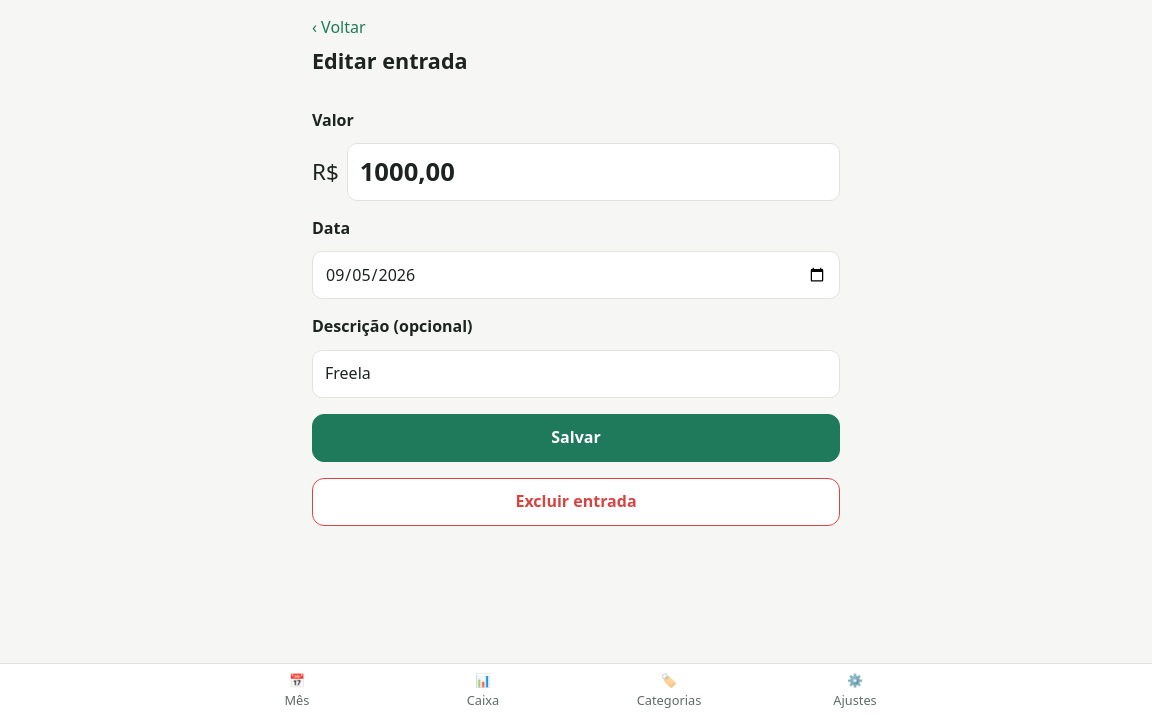
Scenario: entrada › exclui entrada existente
Click the button "Excluir entrada".
click(576, 502)  # box [312,478,840,526]
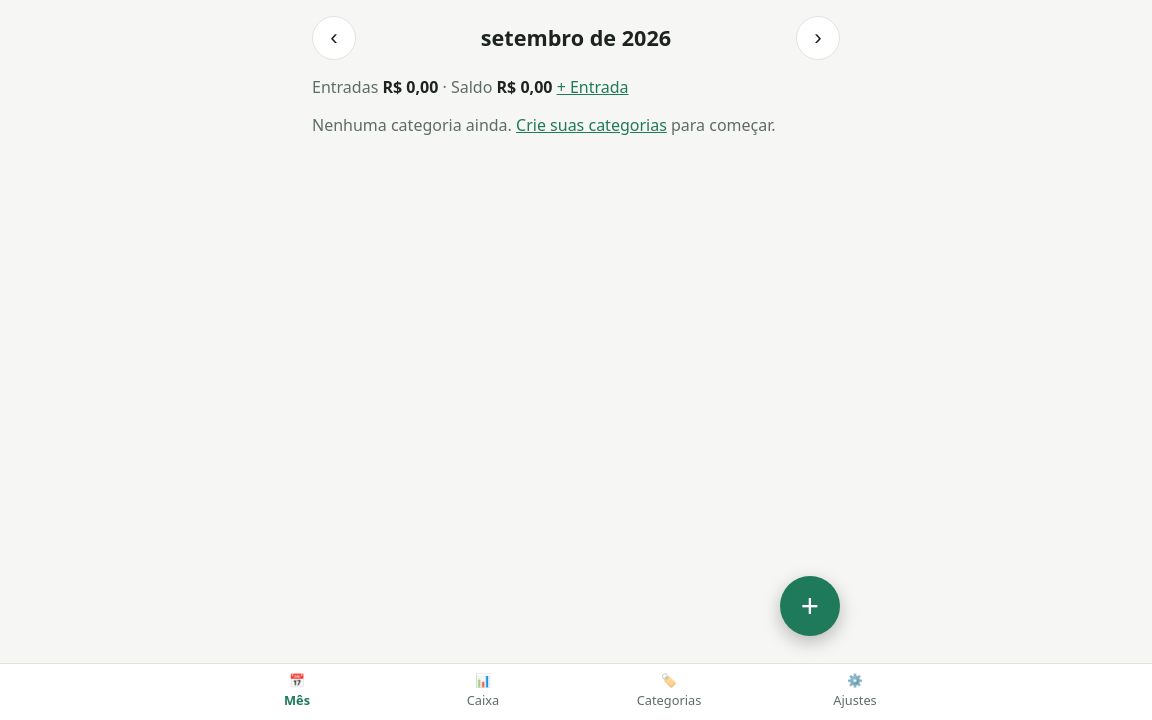
Expected: the text "Entradas R$ 0,00 · Saldo R$ 0,00 + Entrada" is shown, [312,76,629,98]
